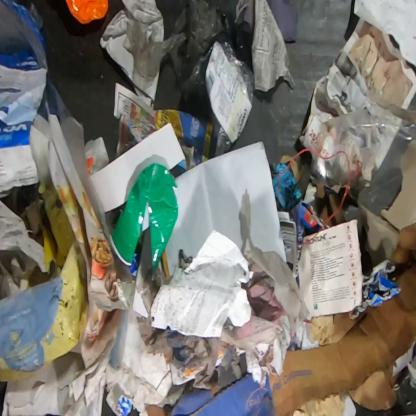cardboard: (145, 221, 415, 415), (0, 242, 89, 382), (24, 184, 76, 278), (348, 258, 402, 321)
rigid_plastic: (109, 162, 179, 281), (64, 0, 108, 24)
soft_plastic: (122, 0, 254, 158), (310, 95, 415, 218)
